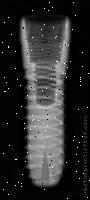Euroteknika: (13, 13, 73, 191)
